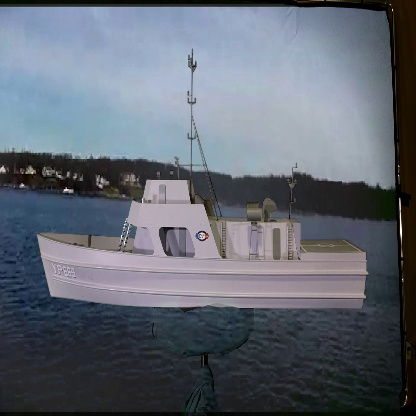YP689: (37, 49, 377, 313)
